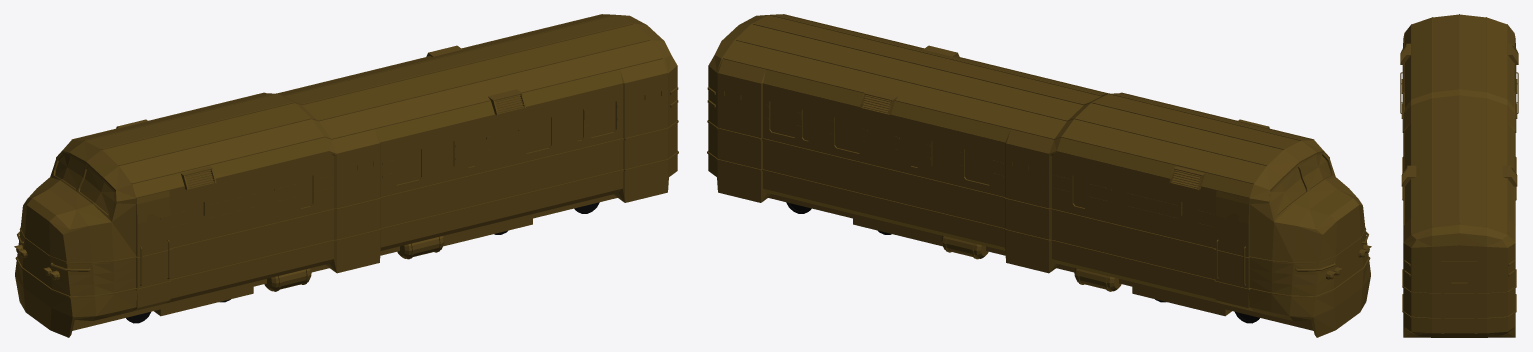
The model's file is cargotrain_front.glb.
3 views of the same model, side by side, from view 1: azimuth 30°, elevation 25°; view 2: azimuth 150°, elevation 25°; view 3: azimuth 270°, elevation 25° (orthographic). The views are drawn at different scales.
Parts seen in each view (by area): view 1: Train_Cylinder.002; view 2: Train_Cylinder.002; view 3: Train_Cylinder.002.
Part boxes in pixels (x1,y1,x2,y2): Train_Cylinder.002: (14,14,678,337); Train_Cylinder.002: (707,14,1371,337); Train_Cylinder.002: (1400,14,1518,337).
Bounding box in the file's own units: 10.35 × 2.68 × 2.15.
